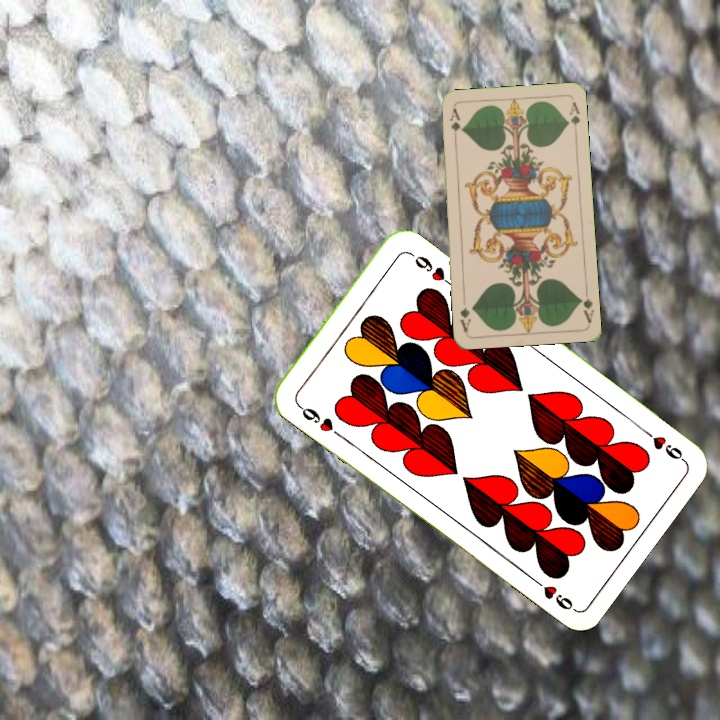GA: (575, 285, 596, 325), (446, 104, 463, 145)
H9: (293, 398, 343, 440), (635, 423, 686, 464)
